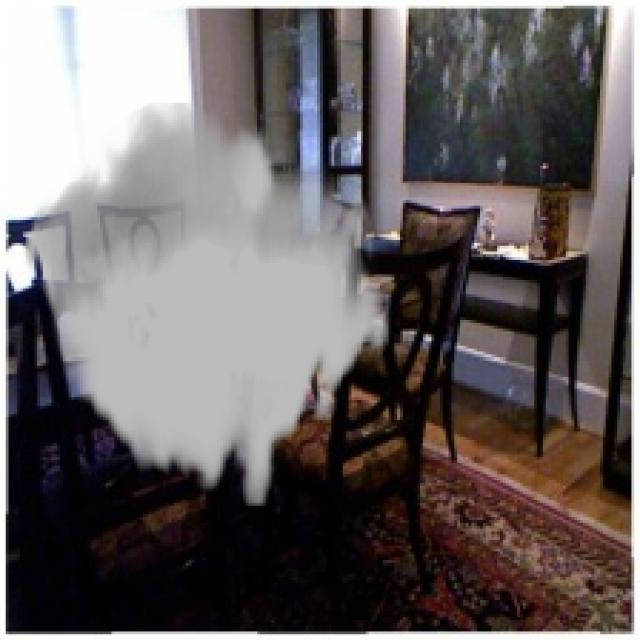smoke: (23, 103, 391, 506)
